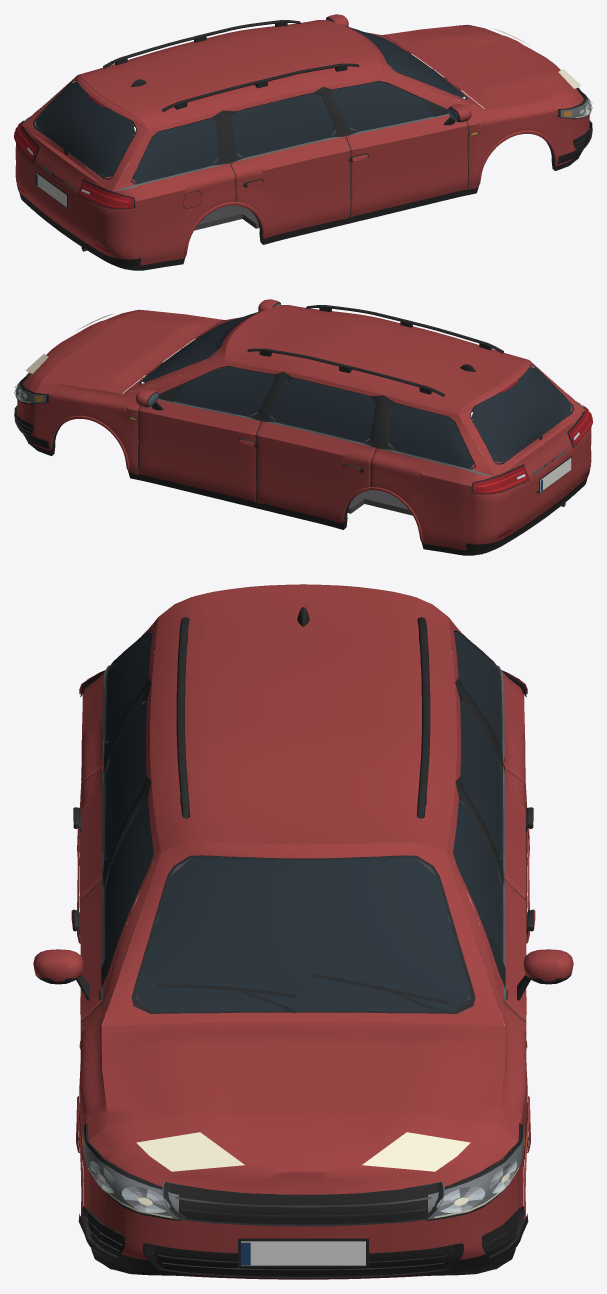
Rendered from estate-street.glb.
The picture shows the model from 3 angles, top to bottom: view 1: azimuth 30°, elevation 25°; view 2: azimuth 150°, elevation 25°; view 3: azimuth 270°, elevation 25°; orthographic projection. The views are drawn at different scales.
Visible parts, largest first — view 1: estate, estate_door4, estate_door2, estate_street_trim; view 2: estate, estate_door3, estate_door1, estate_street_trim; view 3: estate, estate_street_trim, estate_door1, estate_door2, estate_door3, estate_door4.
Boxes of the visible parts, x1,y1,x2,y2 form: estate: (15, 20, 589, 270); estate_door4: (223, 86, 350, 239); estate_door2: (323, 76, 471, 217); estate_street_trim: (14, 41, 592, 266); estate: (17, 305, 591, 555); estate_door3: (256, 371, 383, 524); estate_door1: (135, 361, 283, 502); estate_street_trim: (14, 323, 592, 551); estate: (76, 584, 530, 1279); estate_street_trim: (78, 670, 528, 1279); estate_door1: (447, 782, 573, 1023); estate_door2: (33, 782, 159, 1023); estate_door3: (455, 682, 533, 1019); estate_door4: (73, 682, 151, 1019).
Bounding box in the file's own units: 4.8 × 1.28 × 2.19.
